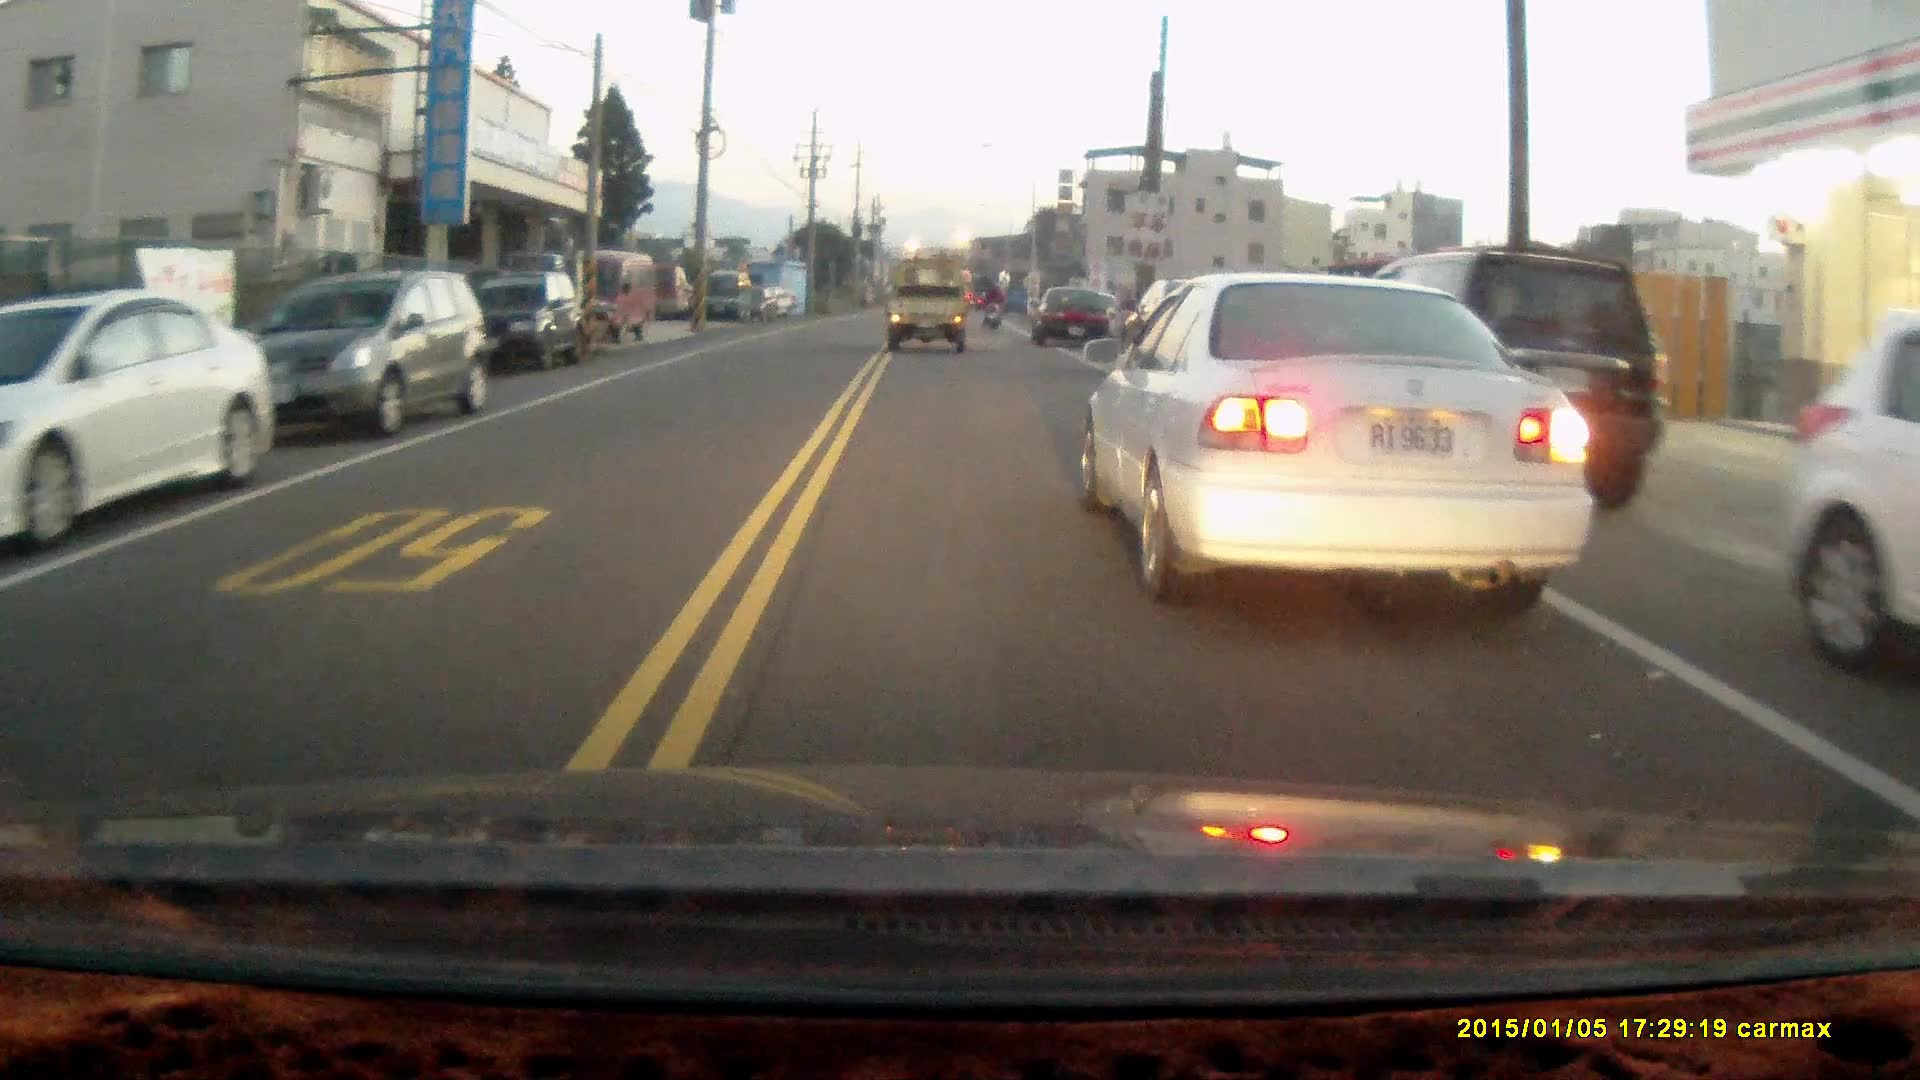rider: (979, 283, 1006, 331)
vehicle: (1080, 269, 1592, 602), (1366, 244, 1663, 501), (4, 293, 276, 538), (1785, 311, 1920, 671), (238, 270, 492, 440), (472, 273, 592, 375), (555, 249, 659, 342), (890, 266, 976, 366), (1034, 286, 1121, 348), (700, 274, 755, 326)
